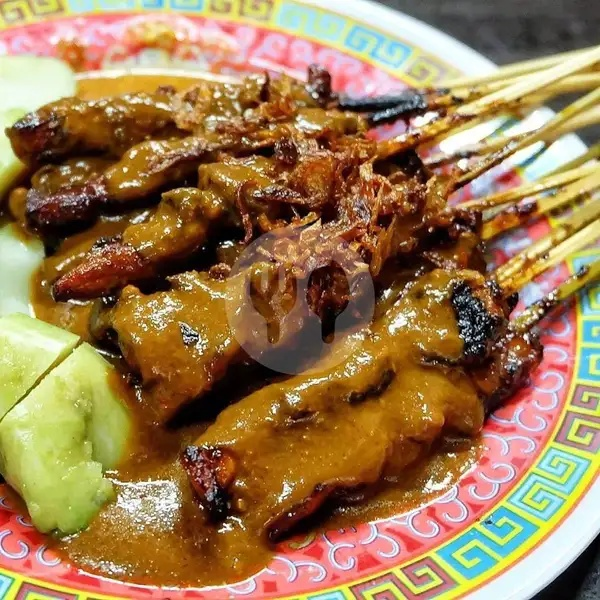sate_madura: (29, 89, 600, 519)
